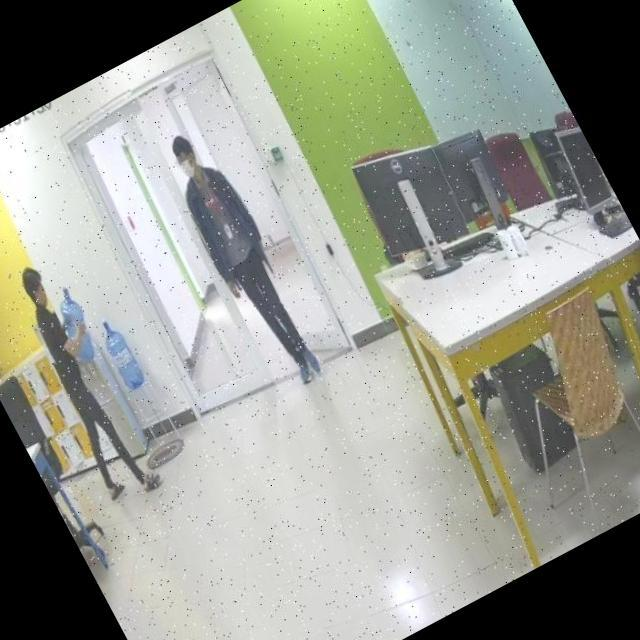person: (147, 118, 336, 396), (0, 254, 169, 507)
